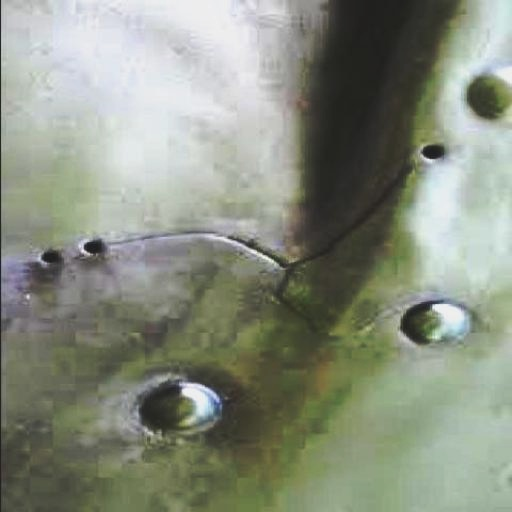crack: (144, 155, 431, 387), (221, 112, 512, 259)
